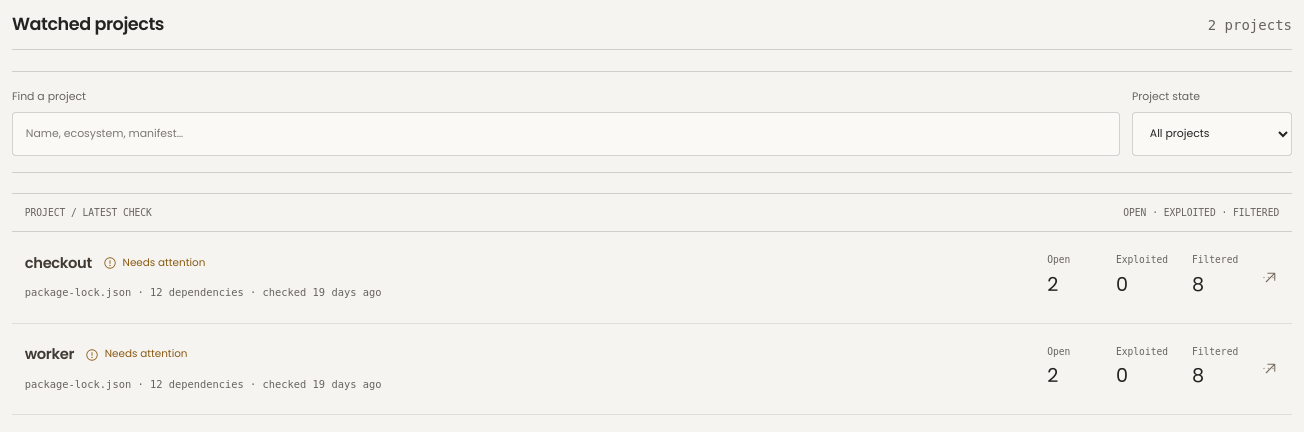
rebuilt workspace interactions › filters real projects by name and setup state without another request
Type "checkout" into the search field labelled "Find a project" at (566, 134), box [12,112,1120,156]
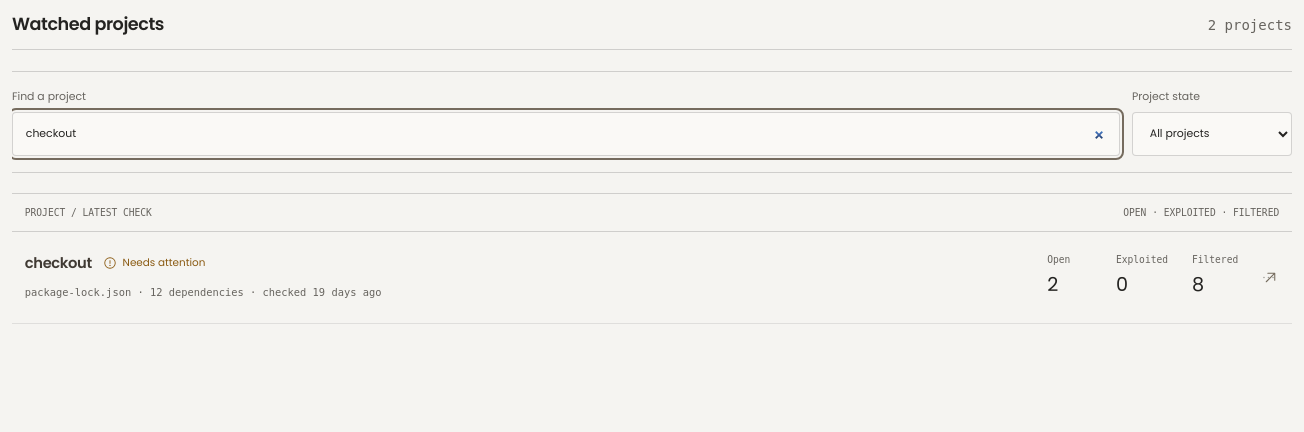
Check: the link with aria-label "Open project checkout" is shown, box [25,253,92,273]
Check: the link "Open project worker" is gone
Clear the search field at (566, 134), box [12,112,1120,156]
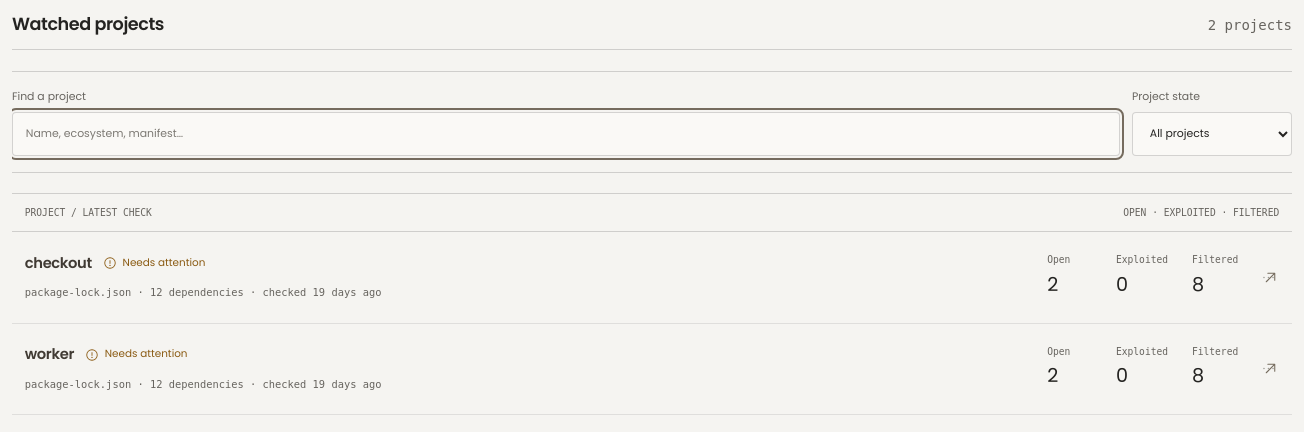
Select "Needs a manifest" in the dropdown labelled "Project state" at (1212, 134), box [1132,112,1292,156]
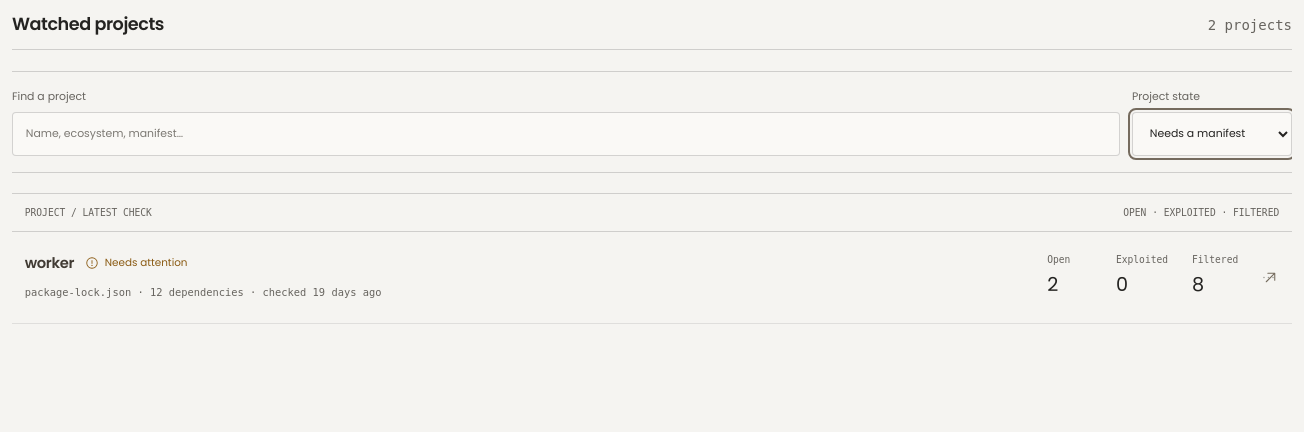
Check: the link with aria-label "Open project worker" is shown, box [25,253,74,273]
Check: the link "Open project checkout" is gone
